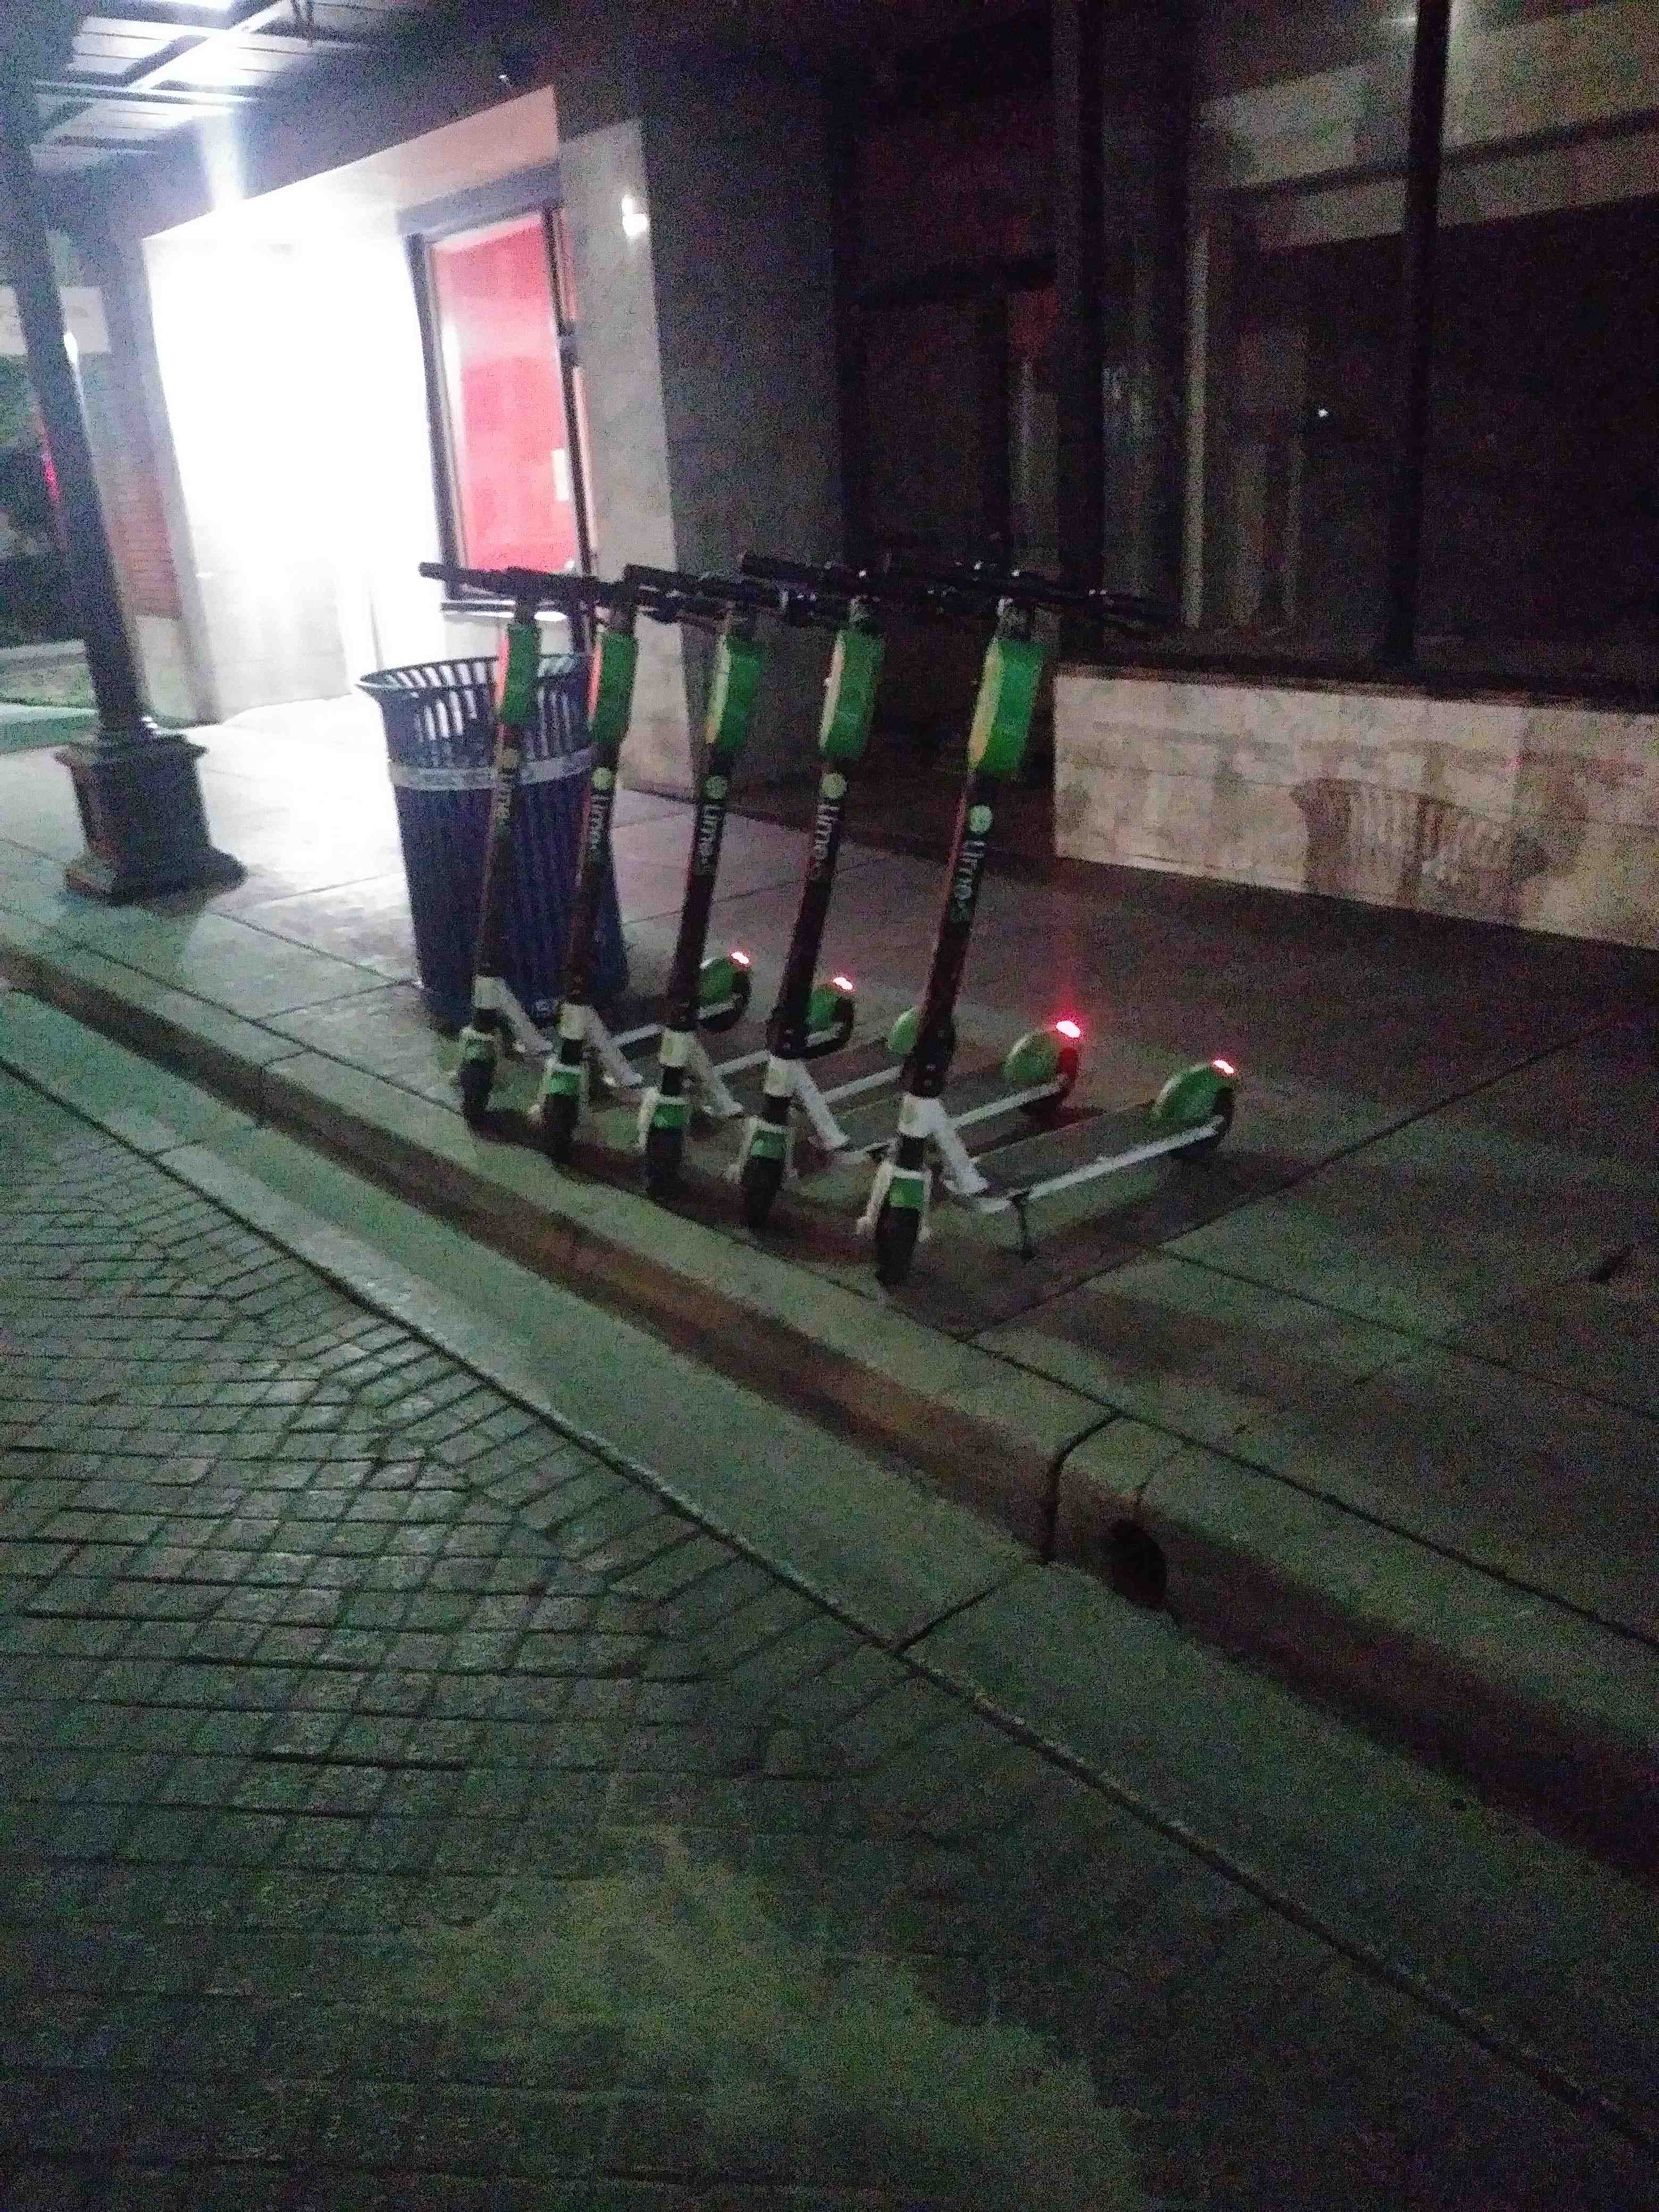too close: (500, 1040, 633, 1291), (396, 1024, 537, 1235)
